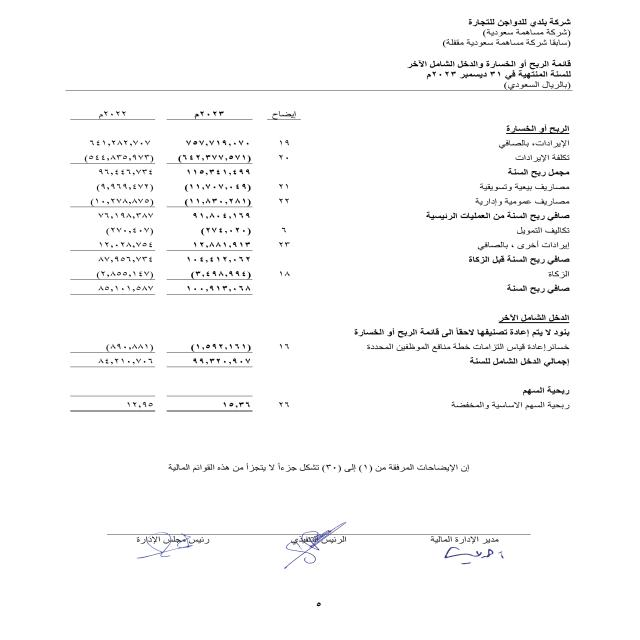financial_sheets: (403, 58, 576, 71)
table: (38, 102, 322, 439)
